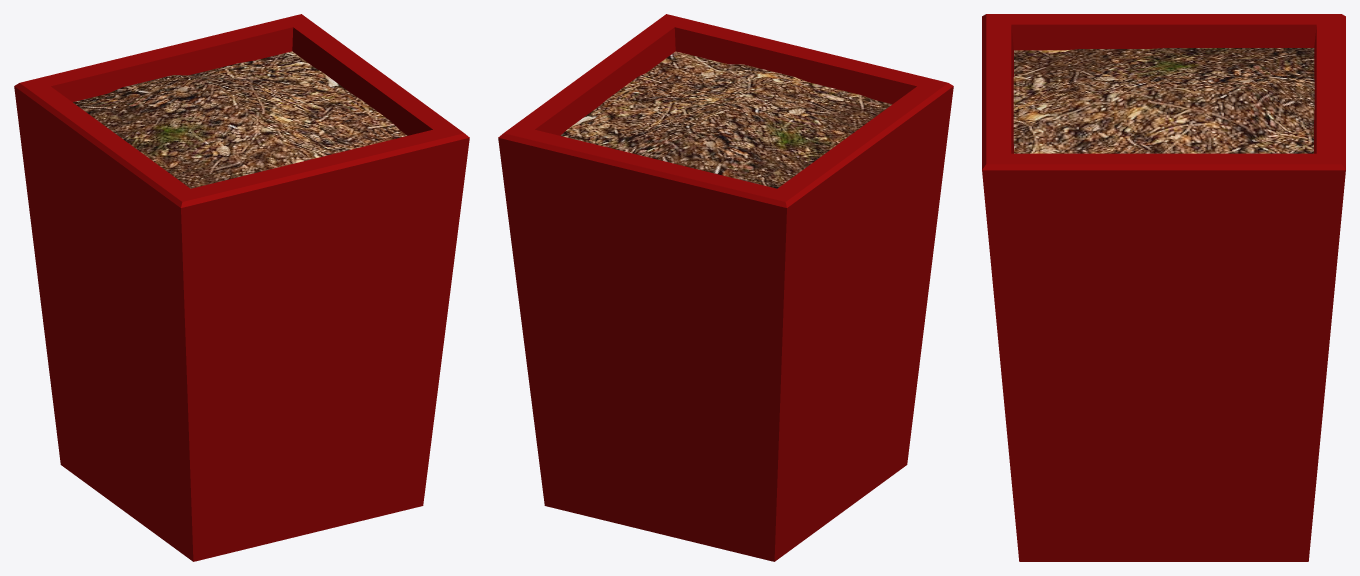
Rendered from office_planter.fbx.
The picture shows the model from 3 angles, left to right: view 1: azimuth 30°, elevation 25°; view 2: azimuth 150°, elevation 25°; view 3: azimuth 270°, elevation 25°; orthographic projection. The views are drawn at different scales.
Parts seen in each view (by area): view 1: pot, dirt; view 2: pot, dirt; view 3: pot, dirt.
Part boxes in pixels (x1,y1,x2,y2): pot: (14, 14, 469, 561); dirt: (73, 51, 407, 188); pot: (498, 14, 953, 561); dirt: (560, 51, 891, 188); pot: (982, 14, 1345, 561); dirt: (1013, 48, 1314, 153).
Size of the model in its own units: 23.91 by 29.89 by 23.91.
